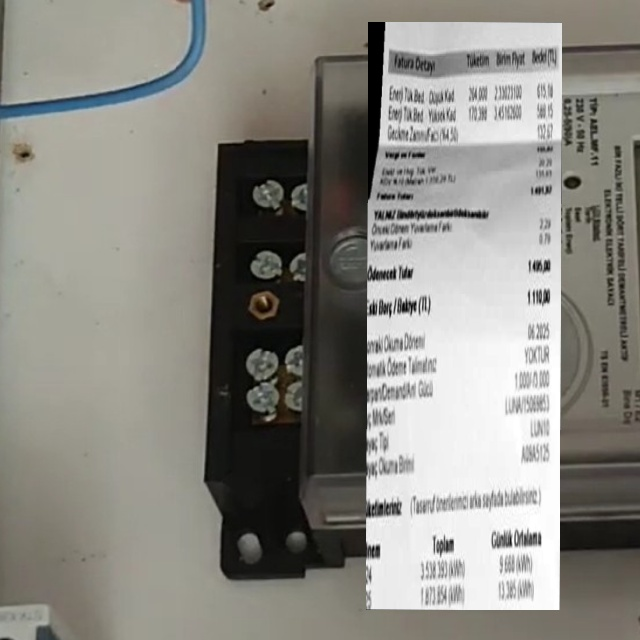electricity-bill: (366, 22, 562, 610)
